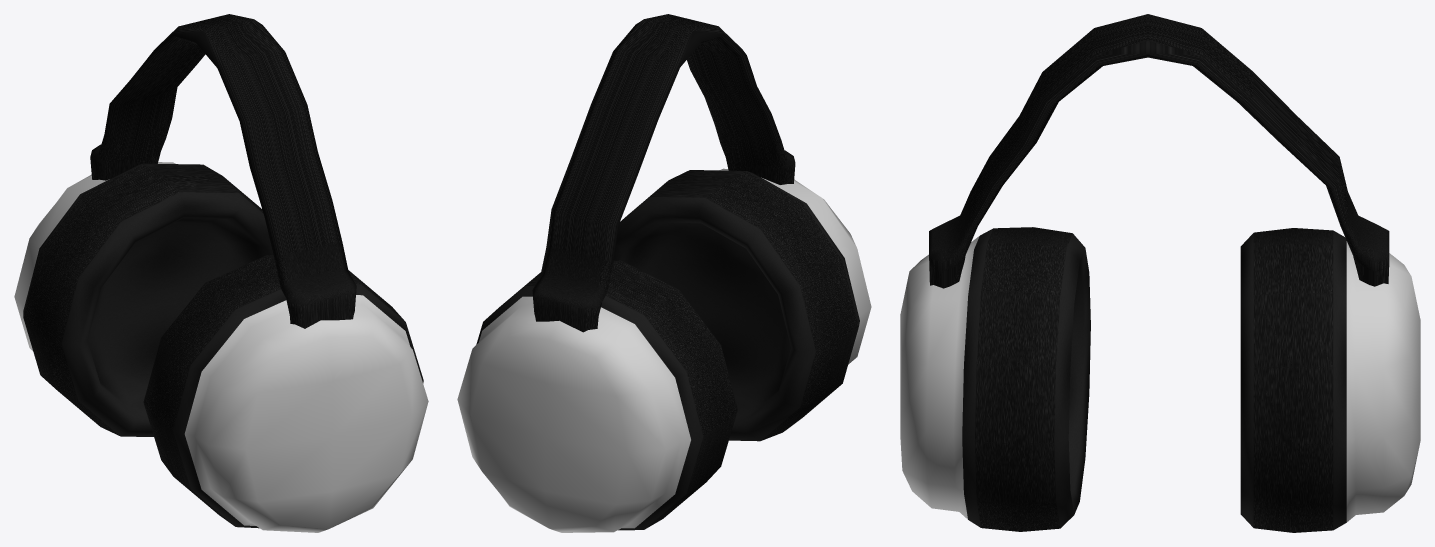
File: headphones.fbx
The picture shows the model from 3 angles, left to right: view 1: azimuth 30°, elevation 25°; view 2: azimuth 150°, elevation 25°; view 3: azimuth 270°, elevation 25°; orthographic projection. The views are drawn at different scales.
Parts seen in each view (by area): view 1: headphone1, headphone, pCube3; view 2: headphone, headphone1, pCube3; view 3: headphone1, headphone, pCube3.
Part boxes in pixels (left/top/right/bottom): headphone1: left=143, top=255, right=428, bottom=532; headphone: left=14, top=162, right=273, bottom=436; pCube3: left=90, top=14, right=356, bottom=328; headphone: left=457, top=260, right=737, bottom=532; headphone1: left=614, top=168, right=871, bottom=441; pCube3: left=532, top=14, right=795, bottom=332; headphone1: left=900, top=227, right=1090, bottom=531; headphone: left=1240, top=228, right=1420, bottom=532; pCube3: left=929, top=14, right=1389, bottom=288.
Size of the model in its own units: 0.2011 by 0.3526 by 0.3393.
